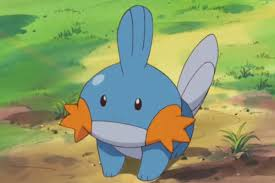mudkip: (59, 4, 222, 183)
